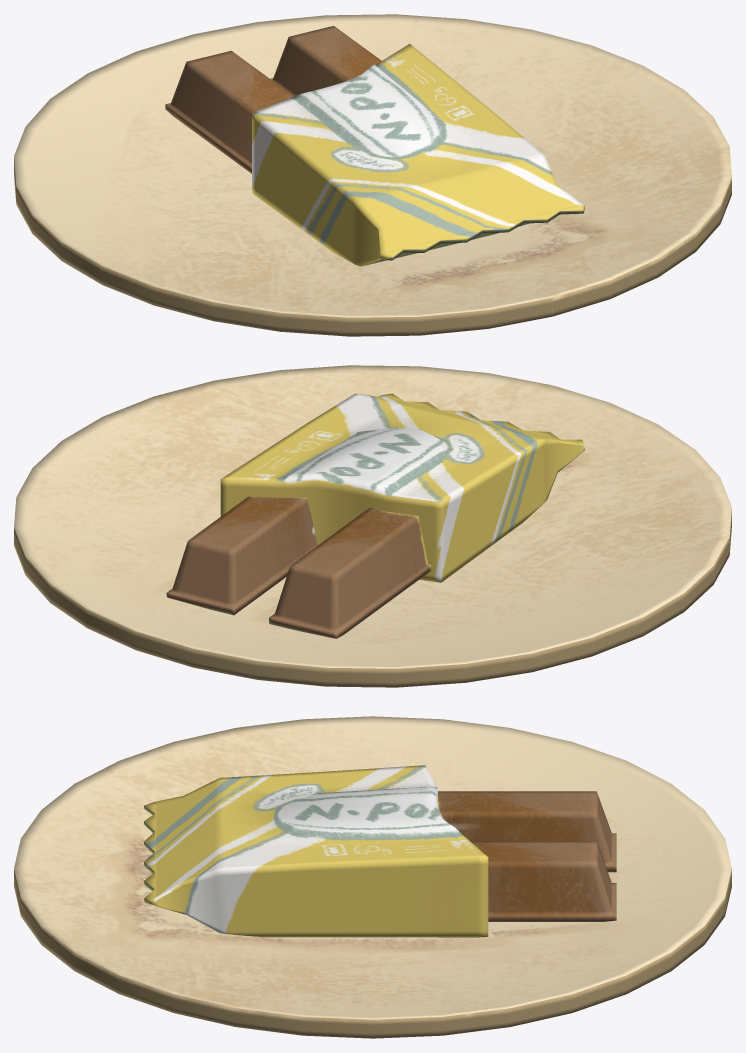
File: Snack_Pause V1.fbx
3 views of the same model, one above another, from view 1: azimuth 30°, elevation 25°; view 2: azimuth 150°, elevation 25°; view 3: azimuth 270°, elevation 25° (orthographic).
Parts seen in each view (by area): view 1: Snack_for_Pause; view 2: Snack_for_Pause; view 3: Snack_for_Pause.
Boxes of the visible parts, x1,y1,x2,y2 form: Snack_for_Pause: [14, 14, 731, 336]; Snack_for_Pause: [14, 365, 731, 687]; Snack_for_Pause: [14, 716, 731, 1038].
Size of the model in its own units: 186 by 37.2 by 186.
Materials: 1 (1 with a texture image).
